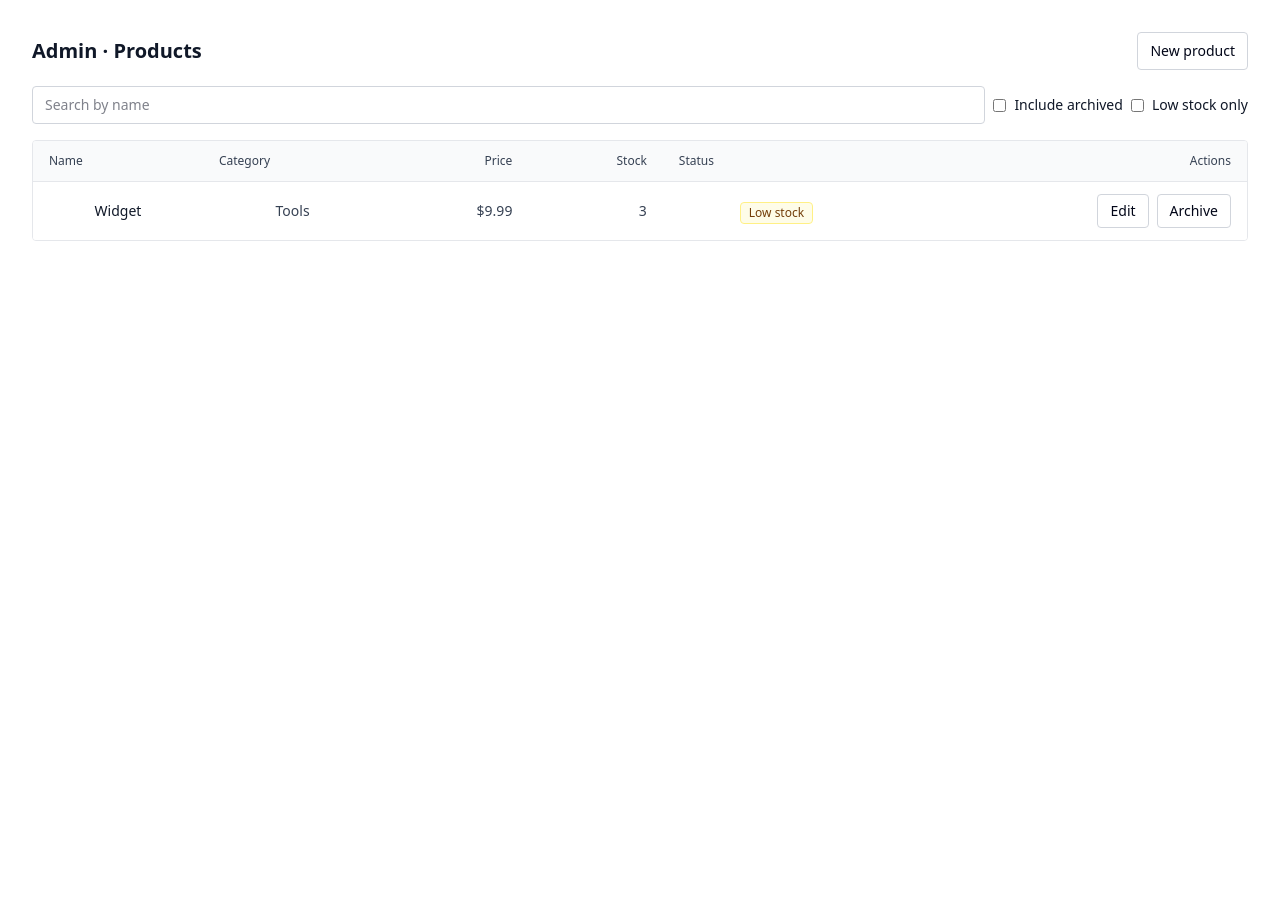
it: ProductsPage › renders products list and can open create form
expect the heading "Admin · Products" is shown: met, box [32,37,202,65]
expect the text "Widget" is shown: met, box [33,182,203,240]
Click the button "New product": (1193, 51) [1138,32,1248,70]
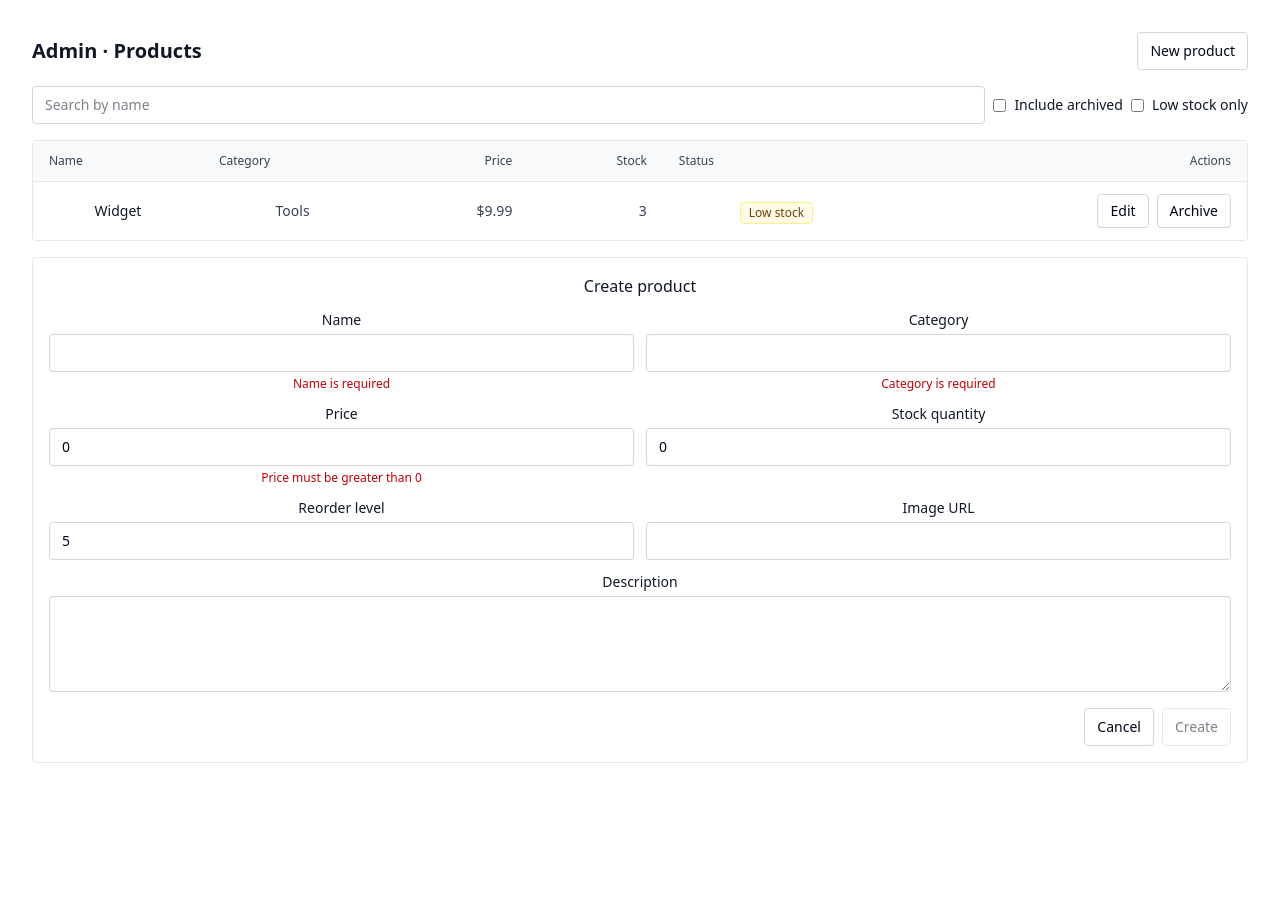
expect the heading "Create product" is shown: met, box [584,275,696,297]
expect the form named "Create product form" is shown: met, box [49,310,1231,746]
